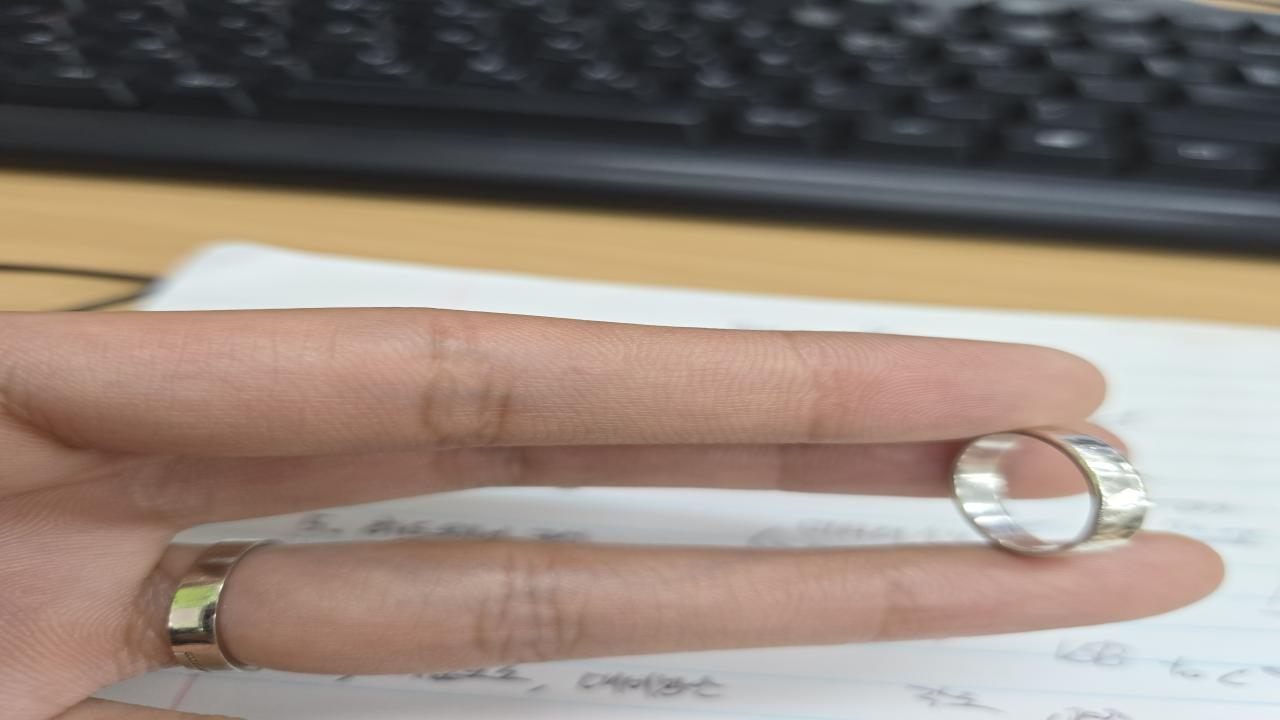ring: (949, 426, 1149, 561), (165, 539, 277, 675)
